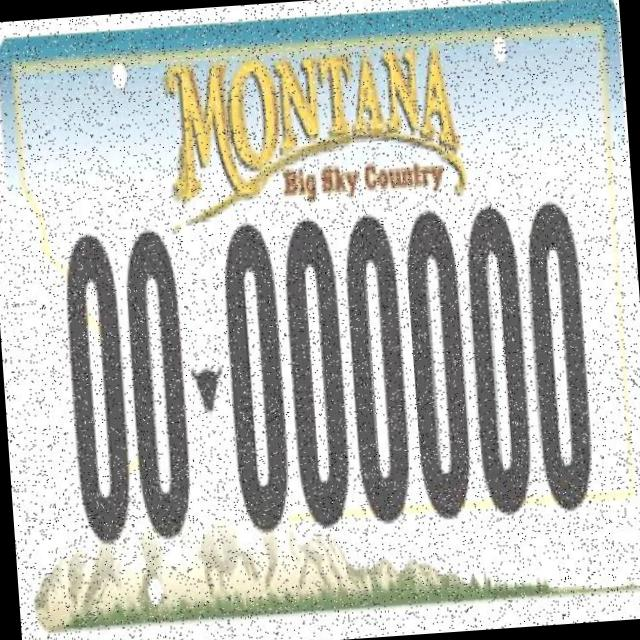LicensePlate: (61, 185, 606, 548)
